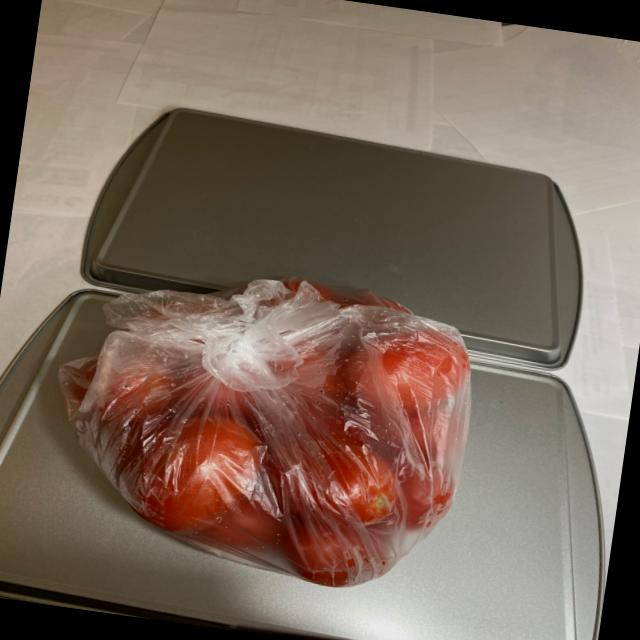tomato: (47, 255, 484, 599)
